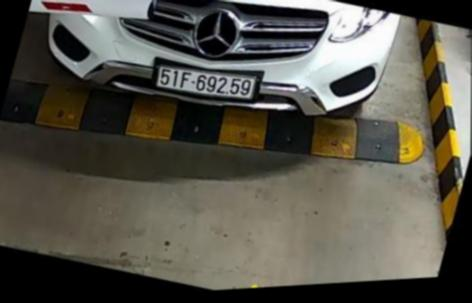License_Plate: (151, 48, 261, 116)
